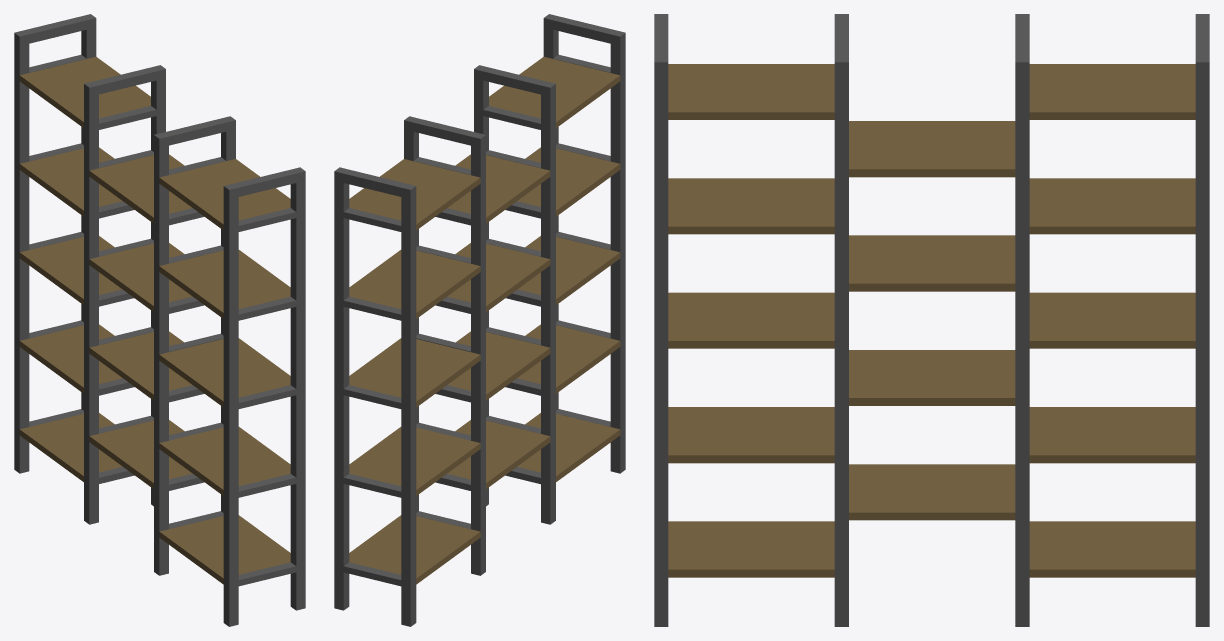
File: OfficeShelf.fbx
The picture shows the model from 3 angles, left to right: view 1: azimuth 30°, elevation 25°; view 2: azimuth 150°, elevation 25°; view 3: azimuth 270°, elevation 25°; orthographic projection. The views are drawn at different scales.
Parts seen in each view (by area): view 1: pCube131; view 2: pCube131; view 3: pCube131.
Boxes of the visible parts, bbox=[...] form: pCube131: bbox=[14, 14, 305, 626]; pCube131: bbox=[334, 14, 625, 626]; pCube131: bbox=[654, 14, 1209, 626].
Bounding box in the file's own units: 12.68 × 69.12 × 61.63.
